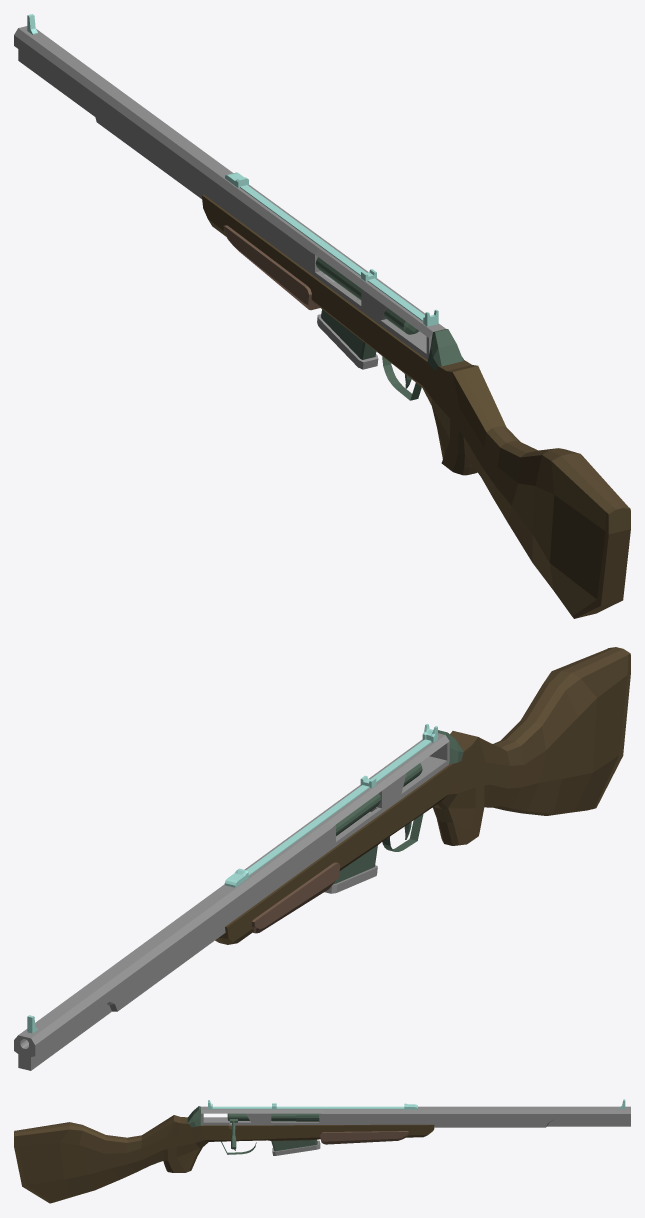
The model's file is bolt_action_static.glb.
3 views of the same model, one above another, from view 1: azimuth 30°, elevation 25°; view 2: azimuth 150°, elevation 25°; view 3: azimuth 270°, elevation 25° (orthographic). The views are drawn at different scales.
Visible parts, largest first — view 1: stock, barrel, sights, grip, barrel_back, chamber, magazine; view 2: stock, barrel, sights, grip, chamber, magazine; view 3: stock, barrel, grip, sights, chamber, magazine, magazine_frame, barrel_back, chamber_shield.
Part boxes in pixels (x1,y1,x2,y2): stock: (201, 194, 630, 618); barrel: (14, 26, 445, 359); sights: (27, 14, 438, 326); grip: (223, 225, 319, 310); barrel_back: (427, 329, 463, 370); chamber: (315, 257, 419, 334); magazine: (321, 299, 376, 359); stock: (215, 647, 630, 944); barrel: (14, 733, 449, 1070); sights: (27, 724, 437, 1033); grip: (251, 862, 340, 933); chamber: (336, 763, 422, 835); magazine: (333, 815, 377, 884); stock: (14, 1115, 434, 1203); barrel: (201, 1106, 630, 1127); grip: (320, 1131, 408, 1144); sights: (208, 1099, 625, 1109); chamber: (227, 1113, 296, 1149); magazine: (271, 1140, 317, 1151); magazine_frame: (272, 1140, 320, 1155); barrel_back: (187, 1106, 201, 1127); chamber_shield: (296, 1113, 319, 1121).
Size of the model in its own units: 0.4601 by 1.27 by 6.97.
